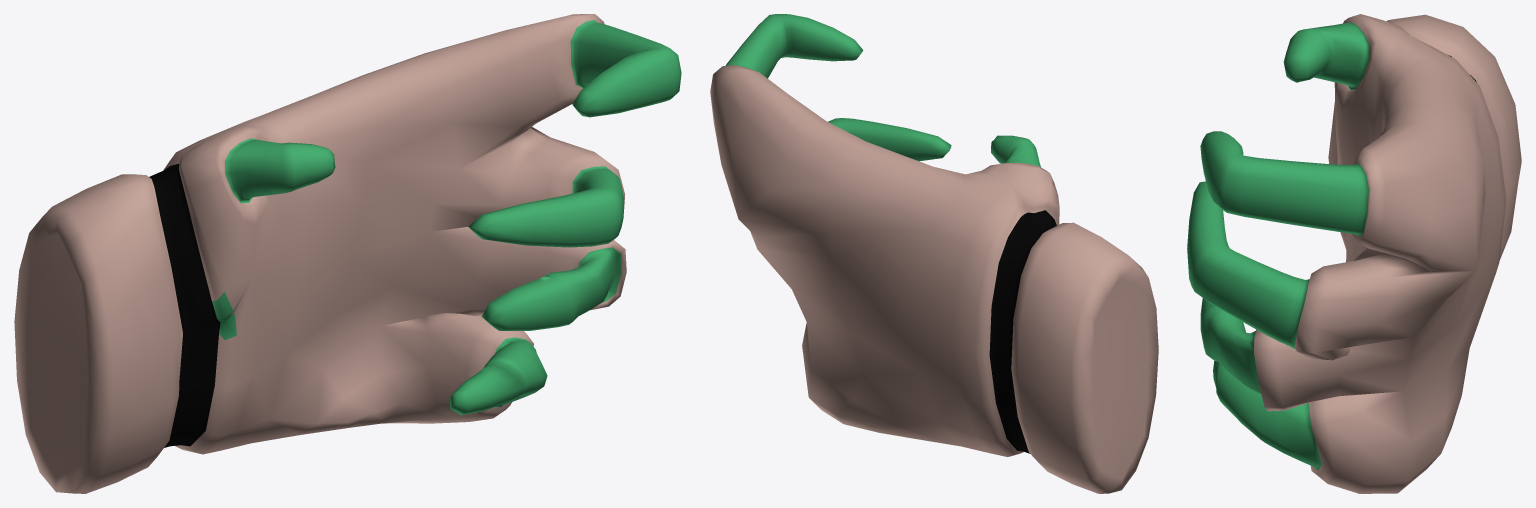
File: LHand.FBX
The picture shows the model from 3 angles, left to right: view 1: azimuth 30°, elevation 25°; view 2: azimuth 150°, elevation 25°; view 3: azimuth 270°, elevation 25°; orthographic projection. The views are drawn at different scales.
Parts seen in each view (by area): view 1: Hand; view 2: Hand; view 3: Hand.
Boxes of the visible parts, x1,y1,x2,y2 form: Hand: [14, 14, 681, 493]; Hand: [710, 14, 1158, 493]; Hand: [1187, 14, 1521, 493].
Size of the model in its own units: 11.02 by 7.78 by 5.78.
